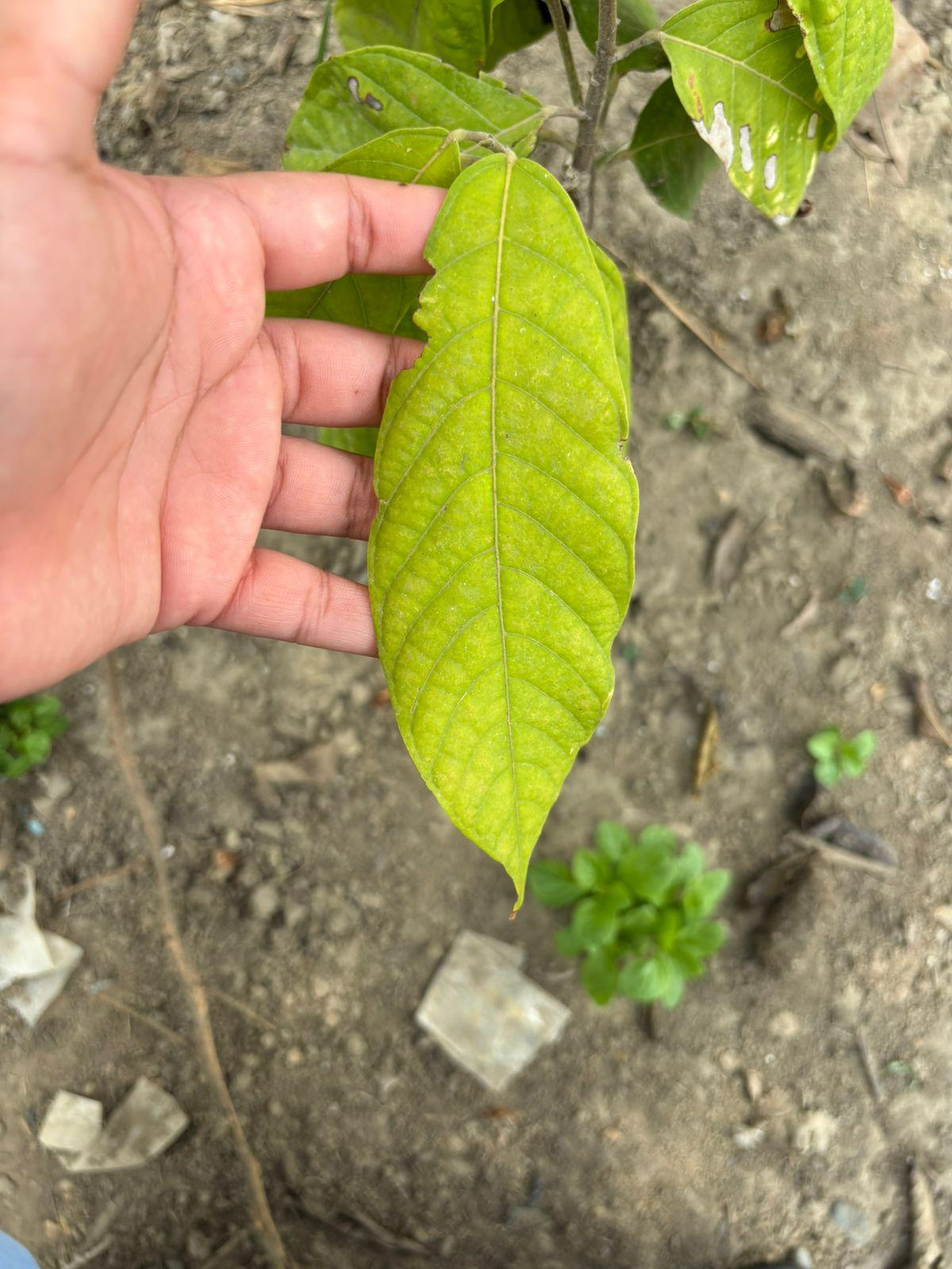deficiencia_nitrogeno: (368, 152, 638, 903)
